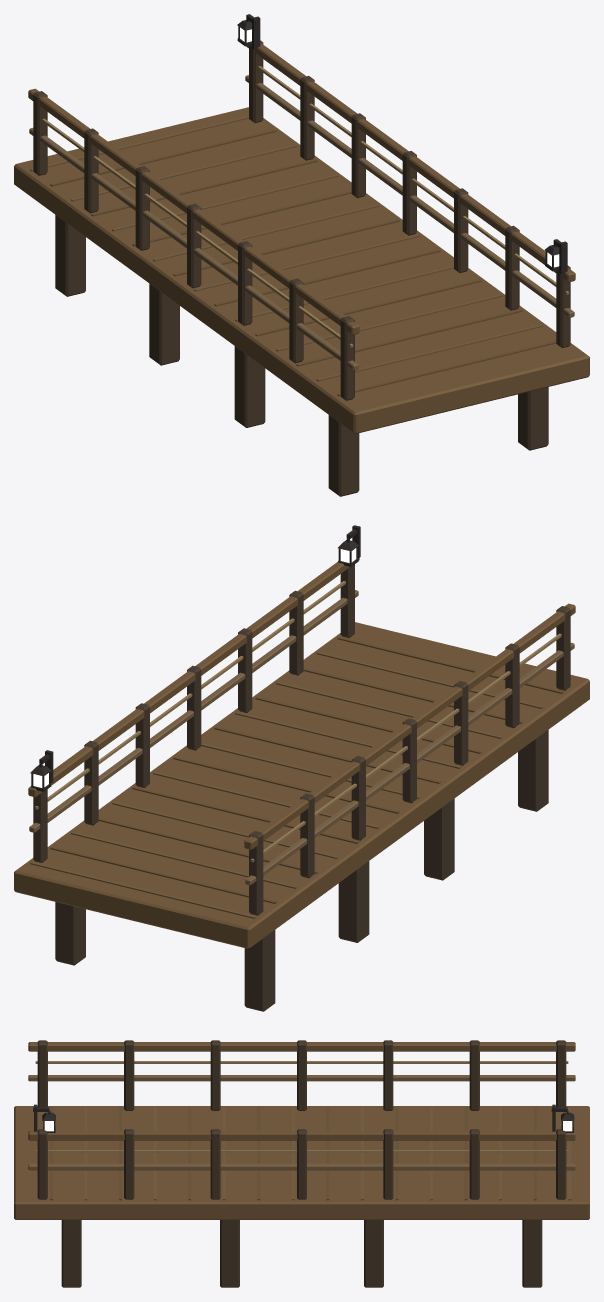
Rendered from Boardwalk.glb.
3 renders of one model, top to bottom at view 1: azimuth 30°, elevation 25°; view 2: azimuth 150°, elevation 25°; view 3: azimuth 270°, elevation 25°, orthographic. The views are drawn at different scales.
Parts seen in each view (by area): view 1: Deck, Body; view 2: Deck, Body; view 3: Deck, Body.
Part boxes in pixels (x1,y1,x2,y2): Deck: (14,107,589,433); Body: (28,14,575,496); Deck: (14,622,589,948); Body: (28,525,575,1011); Deck: (14,1106,589,1219); Body: (28,1040,575,1287).
Size of what is drawn, in the model's own units: 8 by 6.97 by 20.
